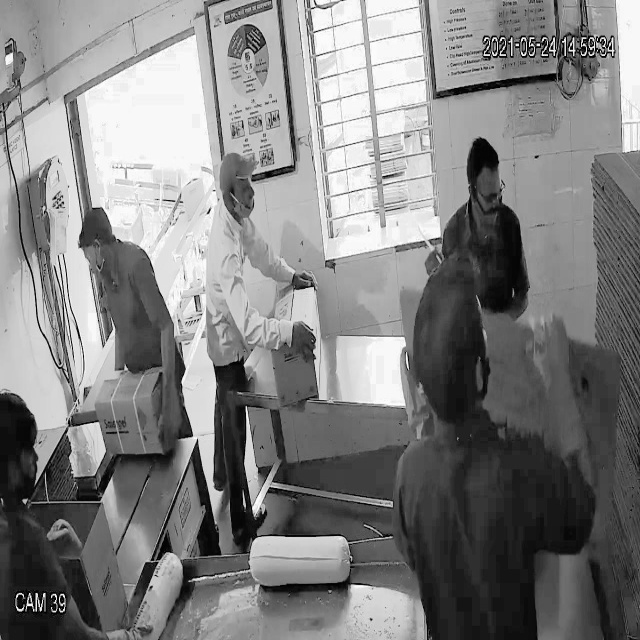Gafas: (467, 176, 508, 209)
